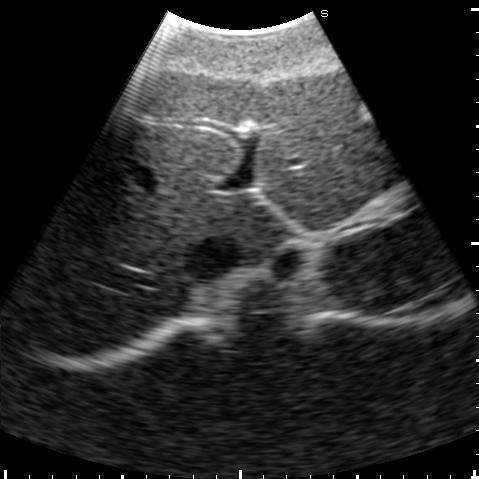IVC: (184, 237, 242, 280)
S1: (224, 196, 291, 258)
S2: (260, 161, 407, 229)
S3: (242, 67, 397, 198)
Tumor: (357, 100, 372, 118)
